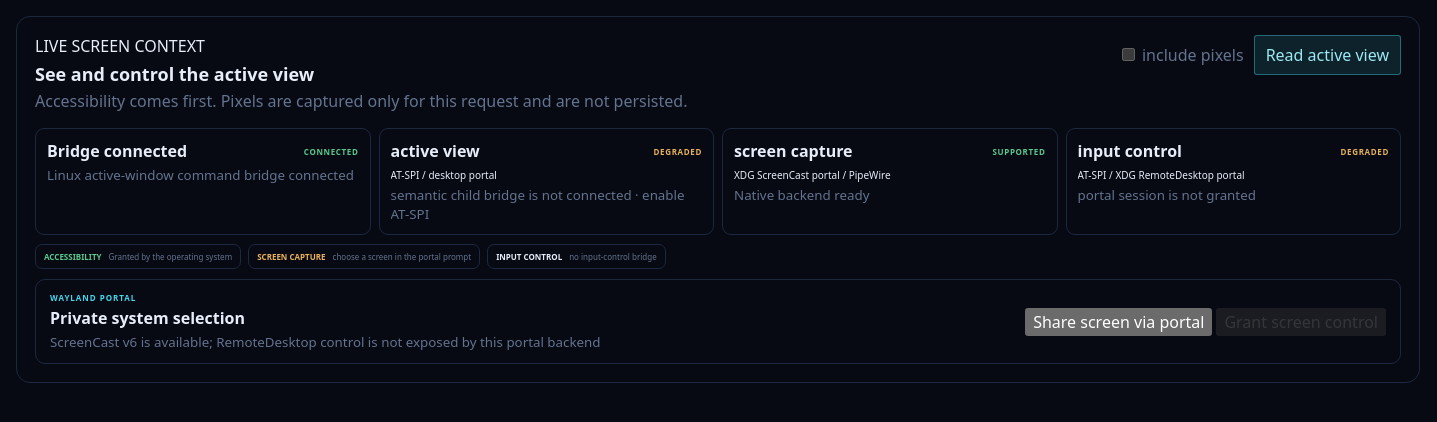
Test case: screen context capability surface › exposes consent-bound portal capture without pretending control exists
The image size is (1437, 422).
Expected: the button "Grant screen control" is disabled, [1216,308,1386,336]
Click the button "Share screen via portal" at (1119, 322), box [1025,308,1212,336]
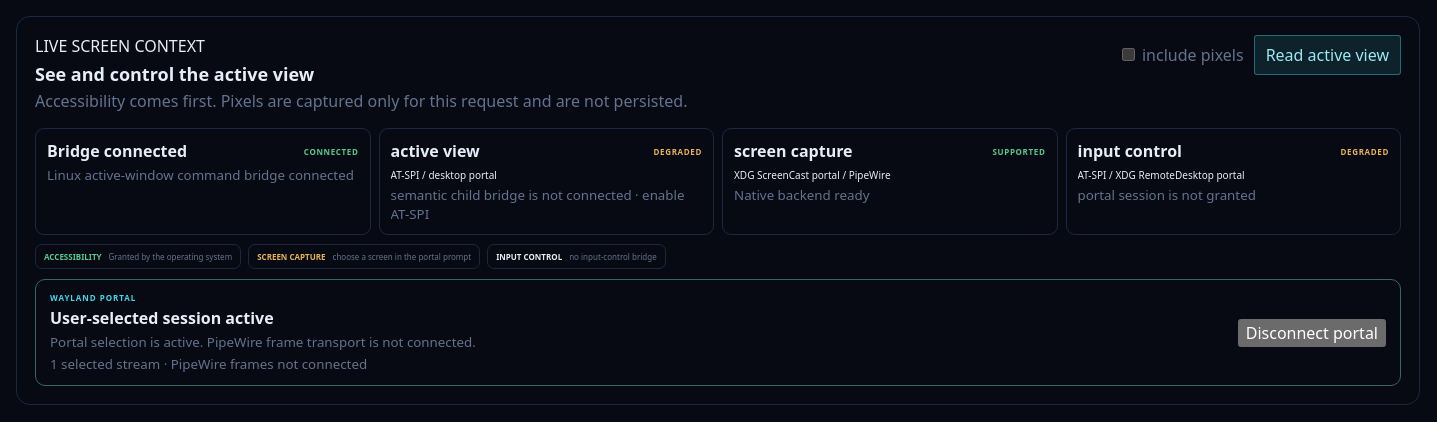
Expected: the text "User-selected session active" is shown, [50,307,274,329]
Expected: the text "1 selected stream · PipeWire frames not connected" is shown, [50,355,367,373]
